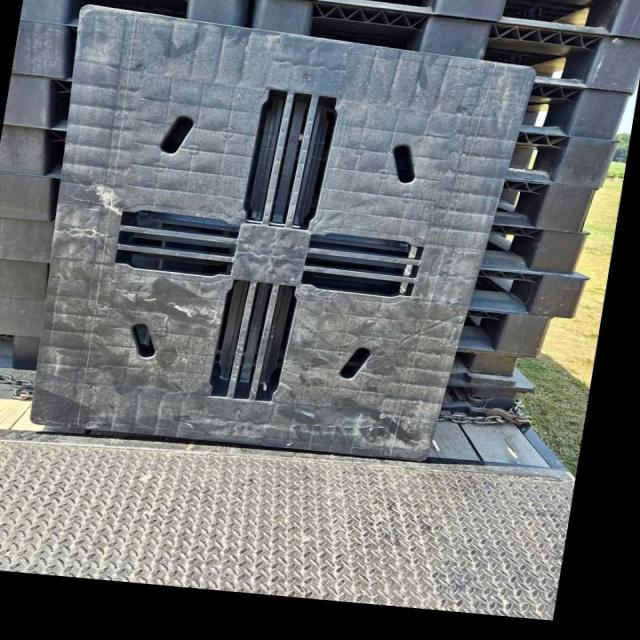non-igps: (25, 0, 546, 468), (433, 71, 634, 420), (244, 0, 639, 97)
